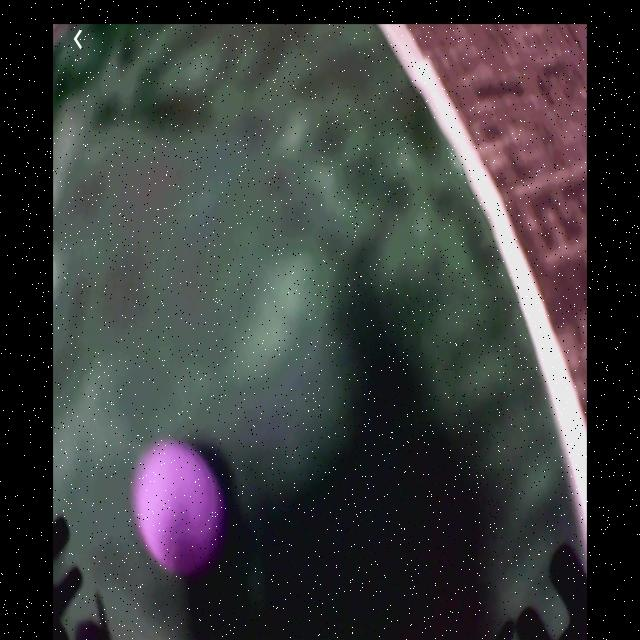ball: (135, 441, 226, 574)
